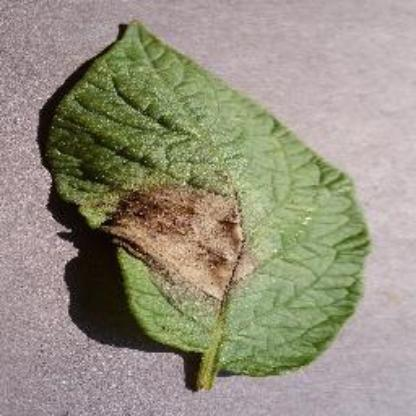Late-Blight: (32, 10, 376, 402)
